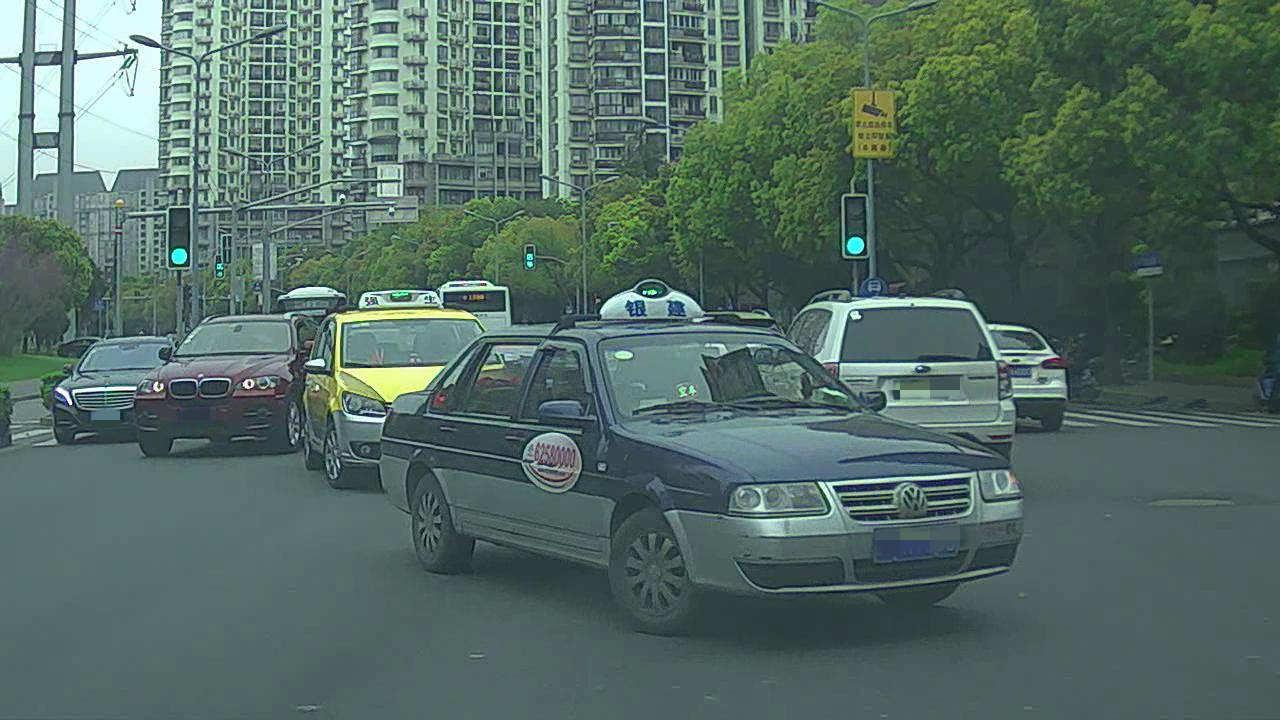traffic_light: (840, 198, 870, 257), (169, 203, 193, 270), (525, 243, 536, 270)
